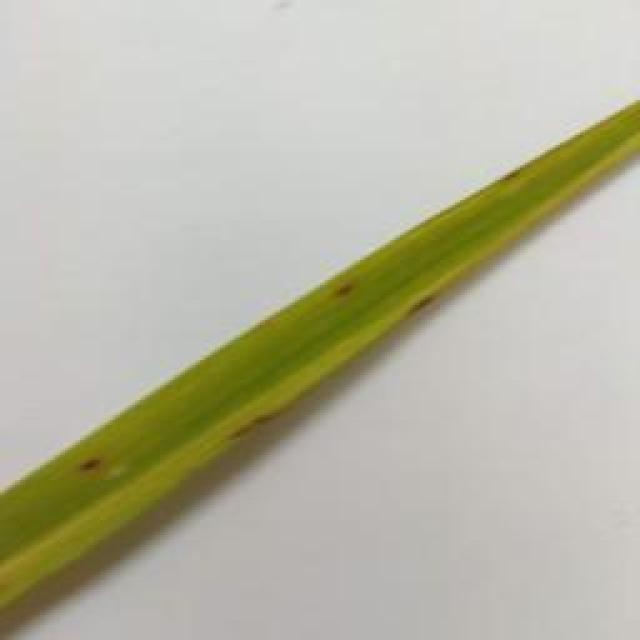Brown_Spot: (208, 407, 299, 449), (305, 278, 381, 301), (75, 450, 105, 484), (402, 287, 430, 315), (496, 170, 526, 188)
